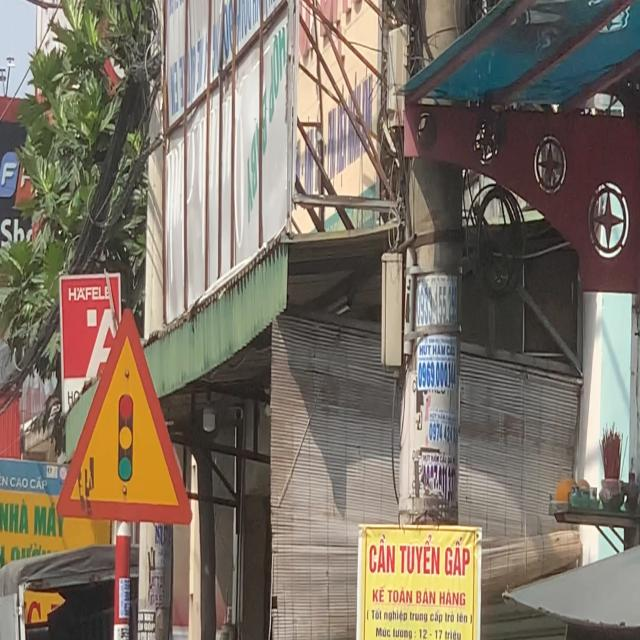Nguy hiem: (50, 292, 200, 536)
